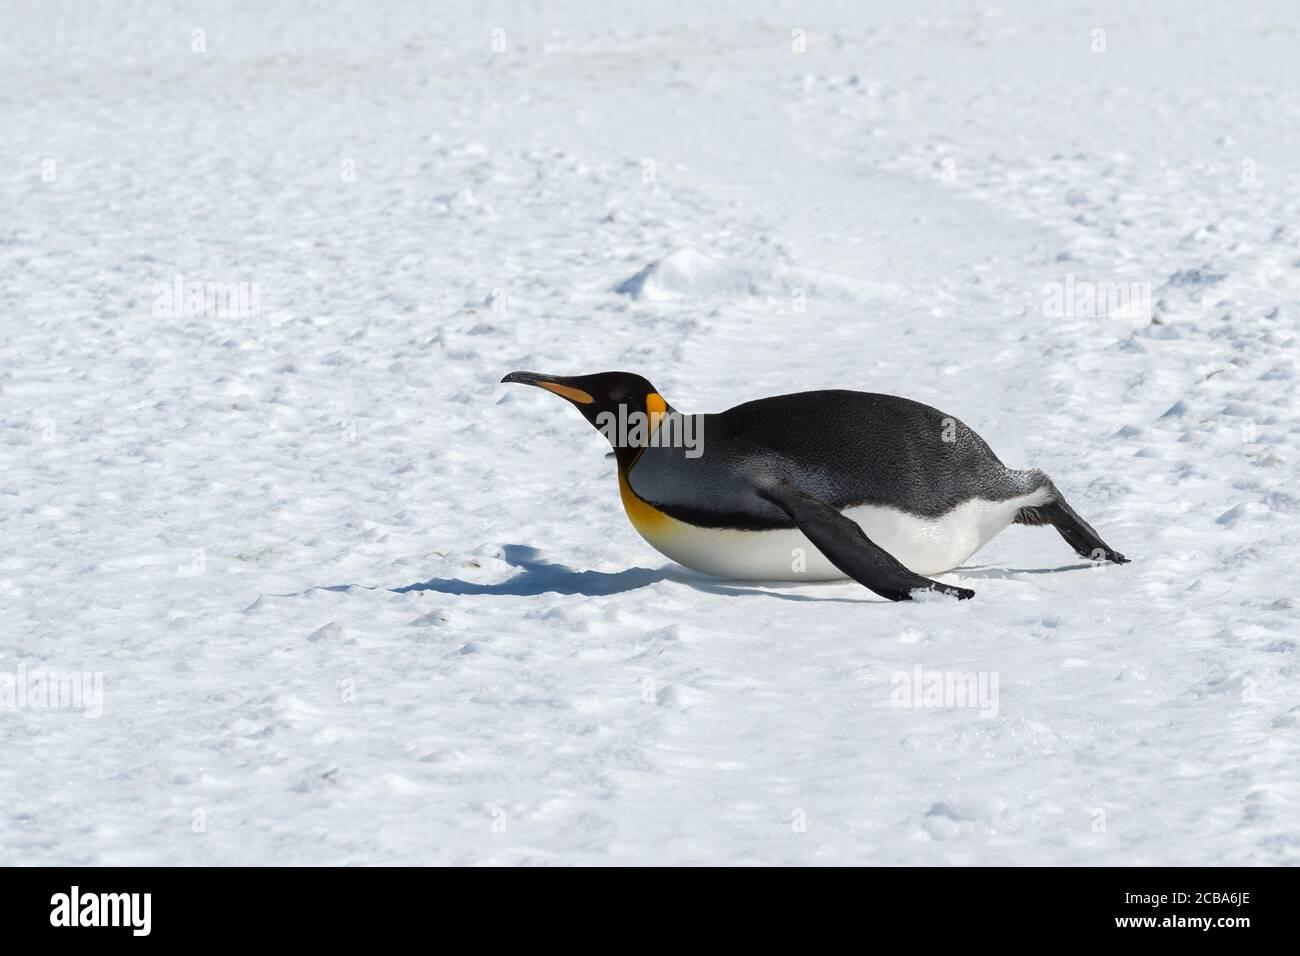king: (466, 288, 1159, 665)
